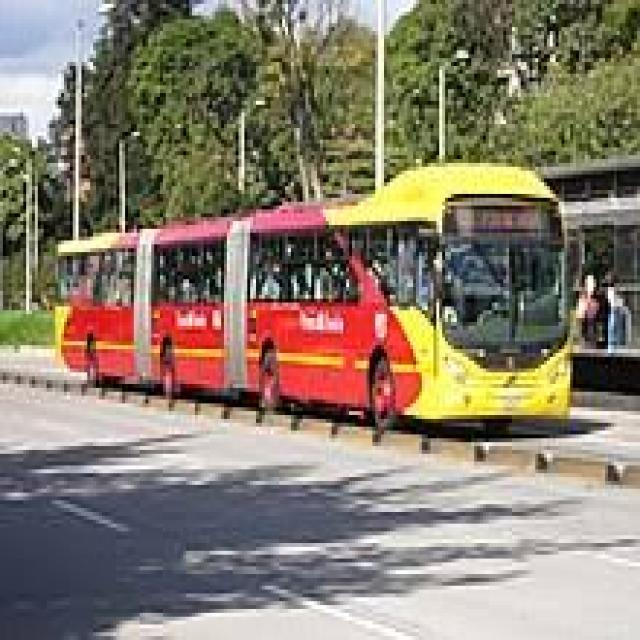AB: (50, 132, 588, 430)
